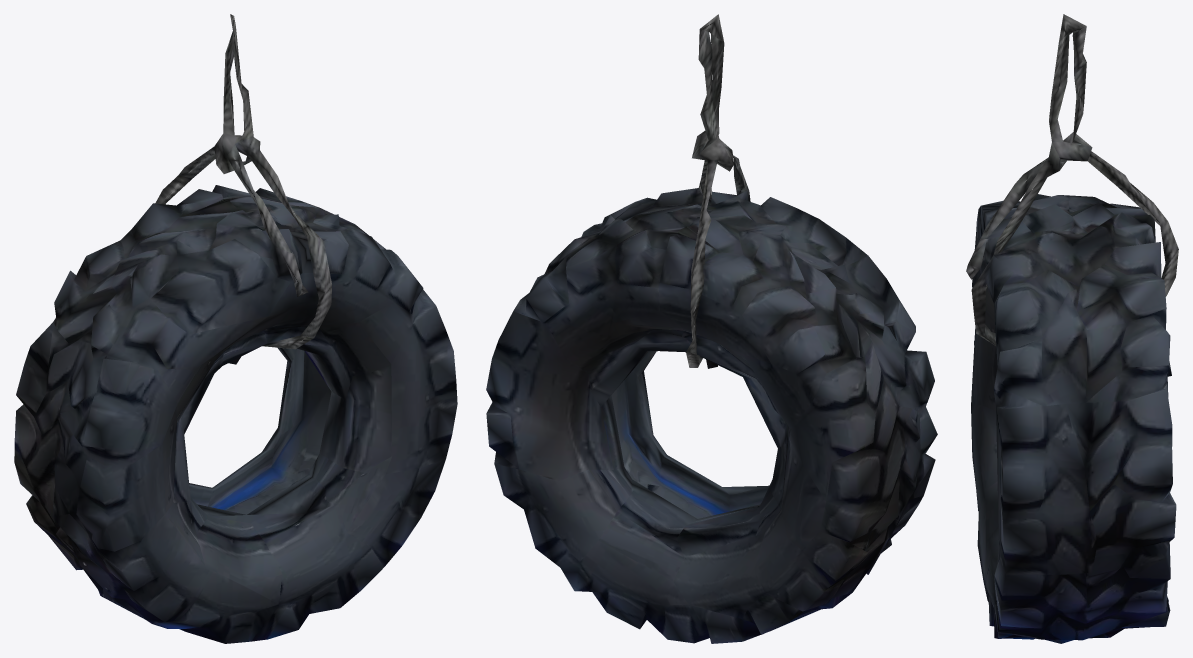
The model's file is env-fender.glb.
The picture shows the model from 3 angles, left to right: view 1: azimuth 30°, elevation 25°; view 2: azimuth 150°, elevation 25°; view 3: azimuth 270°, elevation 25°; orthographic projection.
Visible parts, largest first — view 1: tripo_node_7d7c9505-0f66-48a5-be34-e905706b4463; view 2: tripo_node_7d7c9505-0f66-48a5-be34-e905706b4463; view 3: tripo_node_7d7c9505-0f66-48a5-be34-e905706b4463.
Boxes of the visible parts, x1,y1,x2,y2 form: tripo_node_7d7c9505-0f66-48a5-be34-e905706b4463: [14, 14, 457, 643]; tripo_node_7d7c9505-0f66-48a5-be34-e905706b4463: [486, 14, 937, 643]; tripo_node_7d7c9505-0f66-48a5-be34-e905706b4463: [966, 14, 1178, 643].
Size of the model in its own units: 0.6578 by 0.9877 by 0.3132.
Materials: 1 (1 with a texture image).
